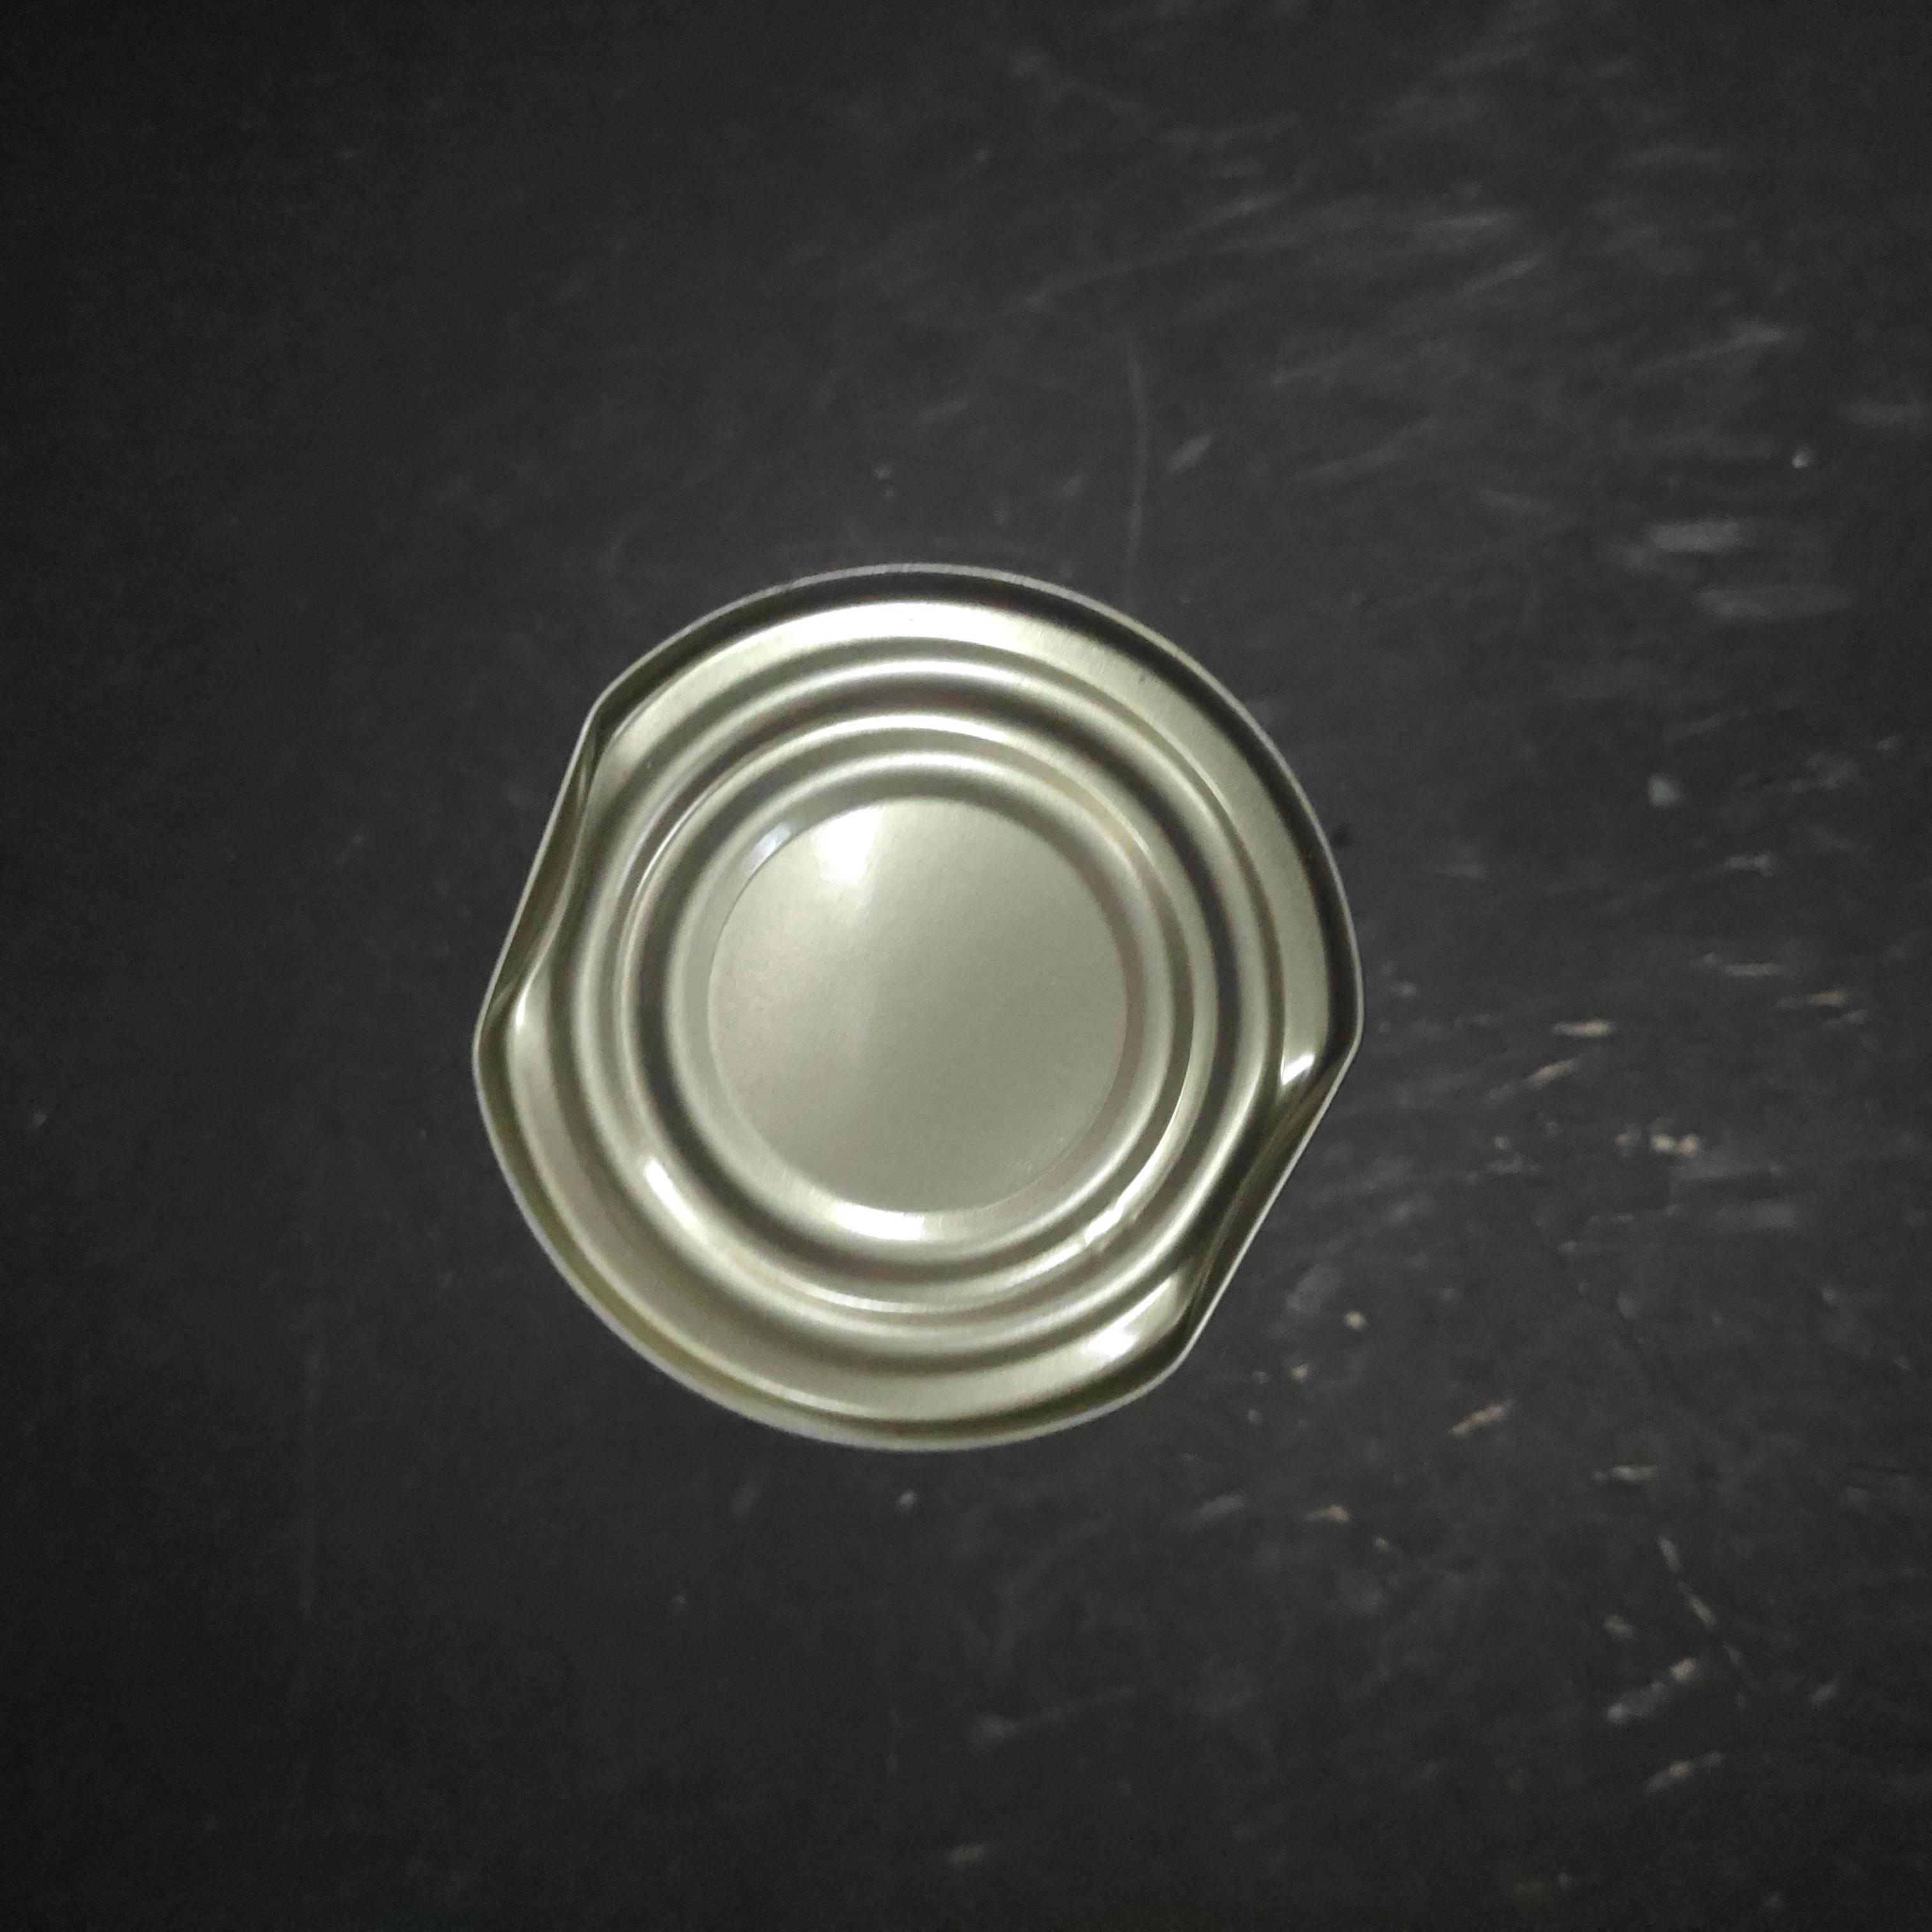Minor Defect: (464, 557, 1382, 1474)
